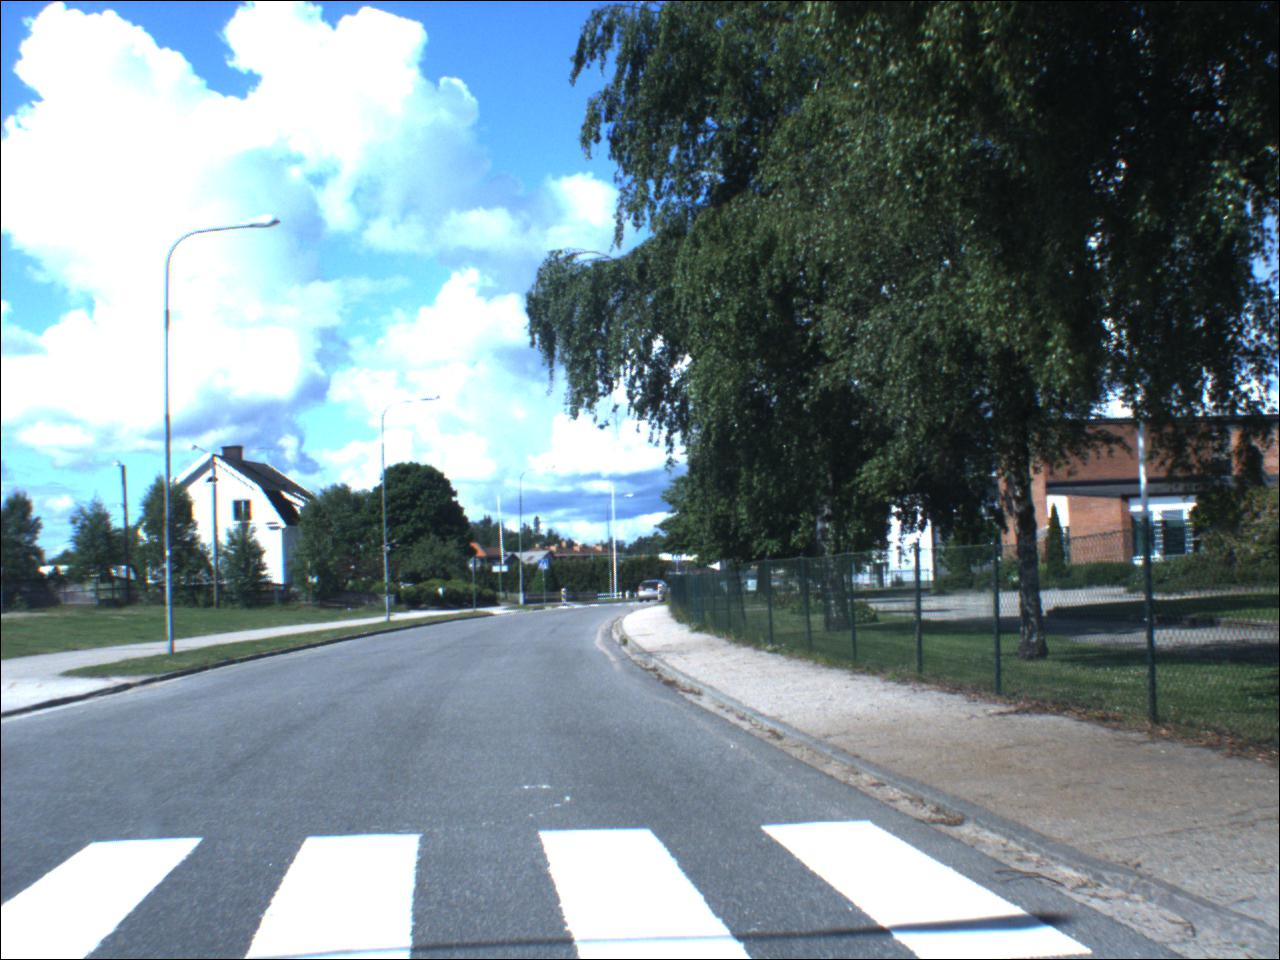PEDESTRIAN_CROSSING: (541, 560, 552, 573), (673, 553, 685, 564)
